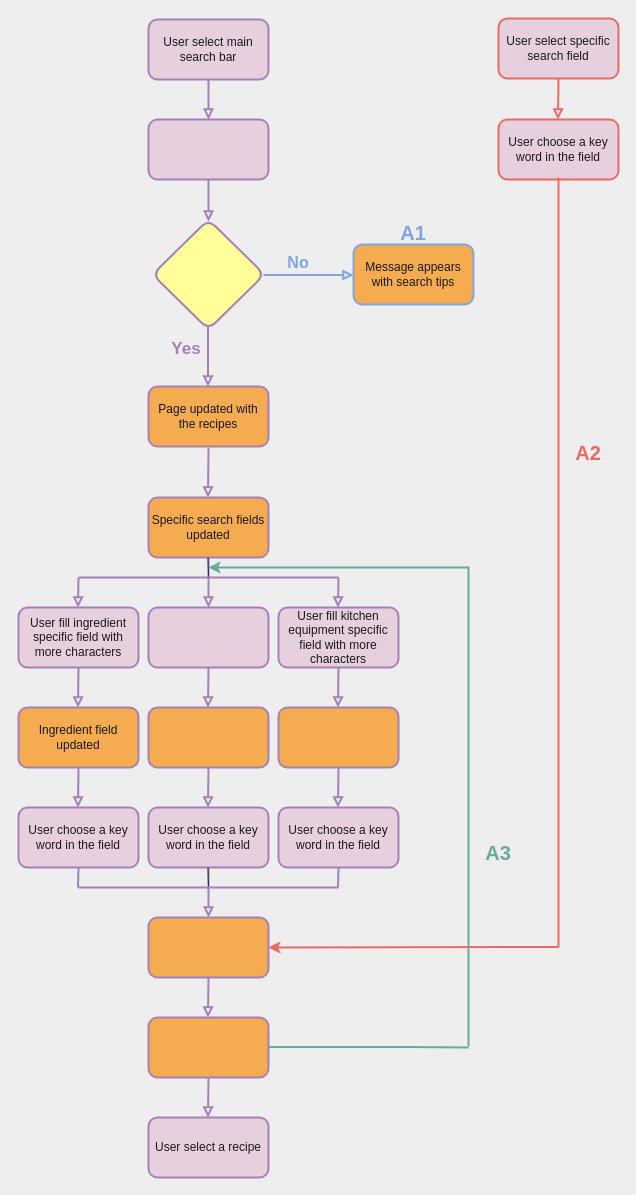
Image size: 636x1195. Some labels were removed from this diagram. Here are the shapes that lost their labels. From the top down, the box of each, then its label:
(147, 118, 269, 180): User fill at least 3 characters
(151, 218, 265, 330): Match with one or more recipes
(147, 606, 269, 668): User fill cooking tool specific field with more characters
(147, 706, 269, 768): Cooking tool field updated
(277, 706, 399, 768): Kitchen equipment field updated
(147, 916, 269, 978): Key word appears as a tag
(147, 1016, 269, 1078): Page updated with the recipes & Specific search fields updated
